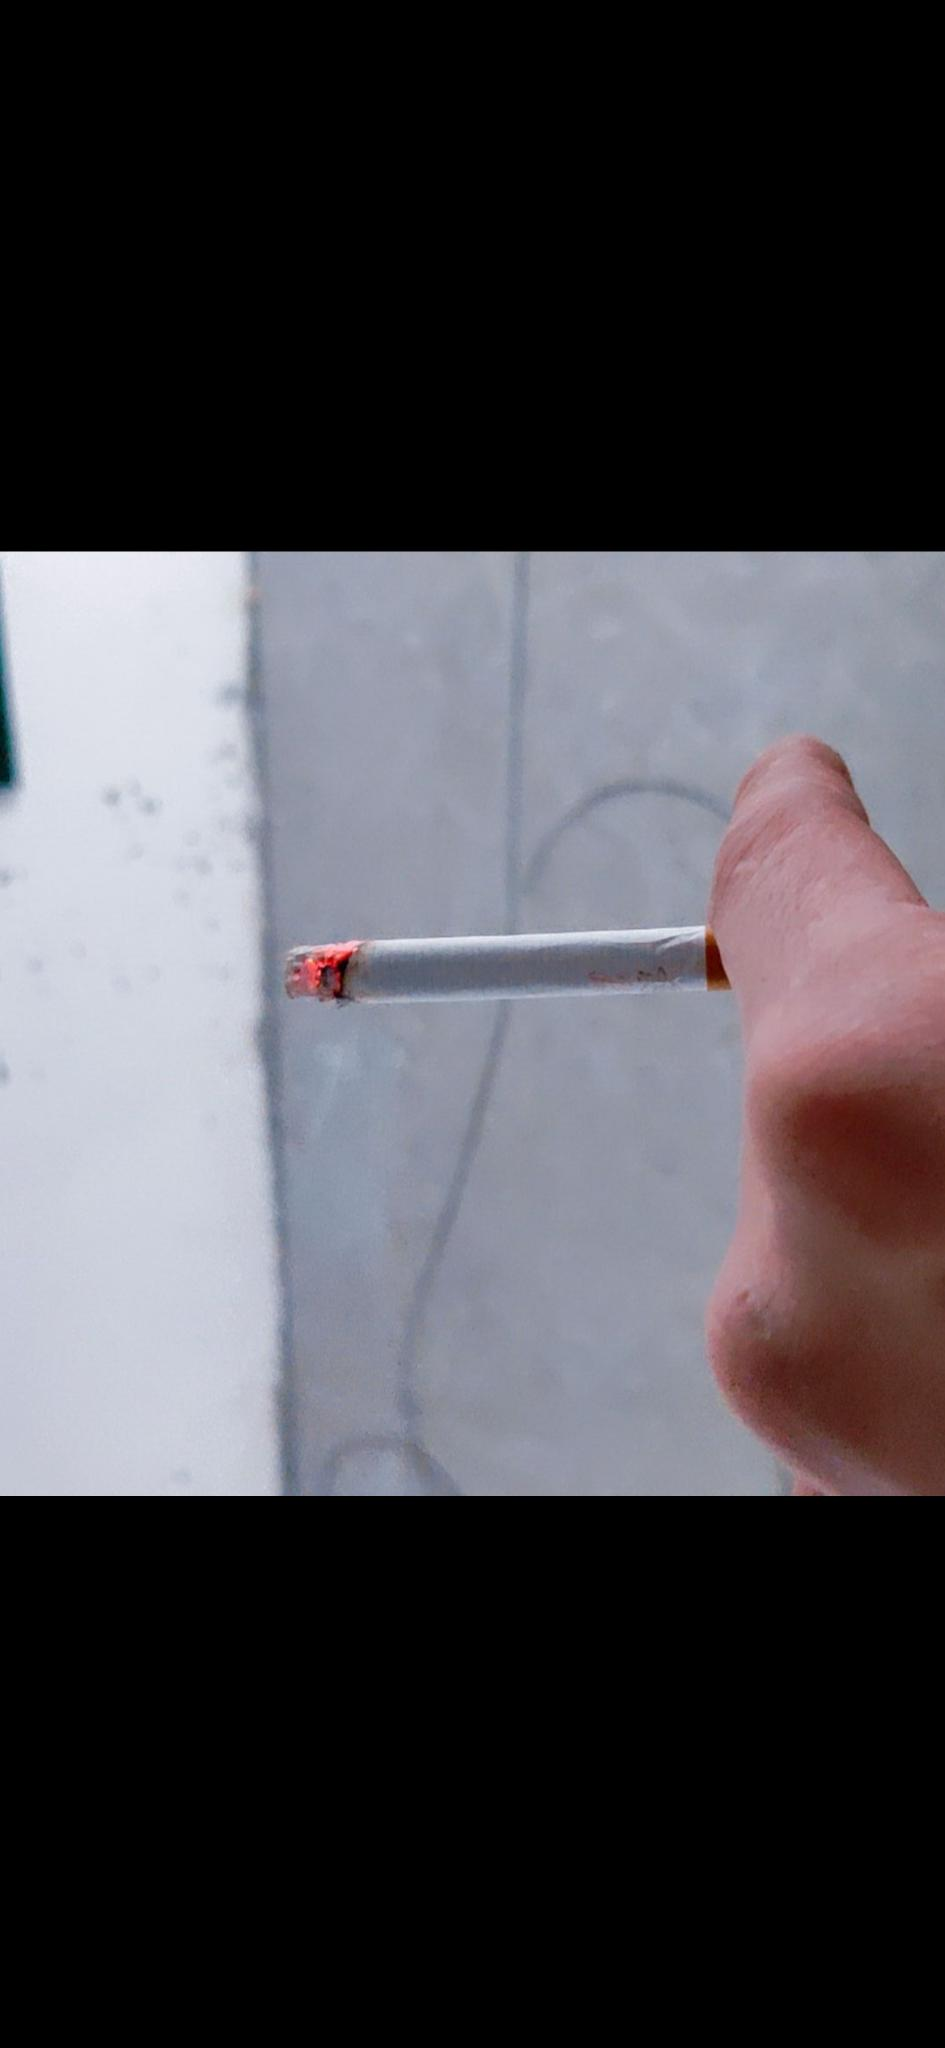Cigarette: (277, 906, 736, 1009)
